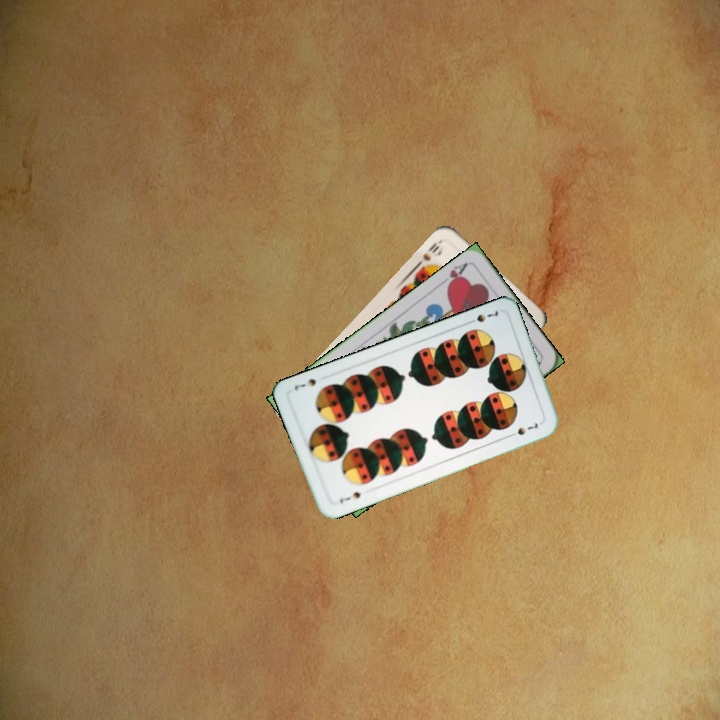HA: (436, 258, 470, 292)
S10: (413, 239, 441, 269)
S7: (463, 306, 501, 327), (336, 487, 363, 506)
